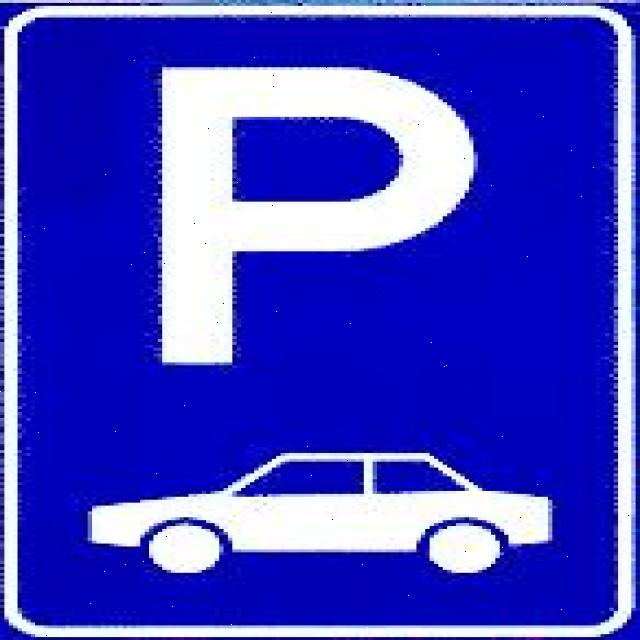parking: (104, 44, 499, 383)
